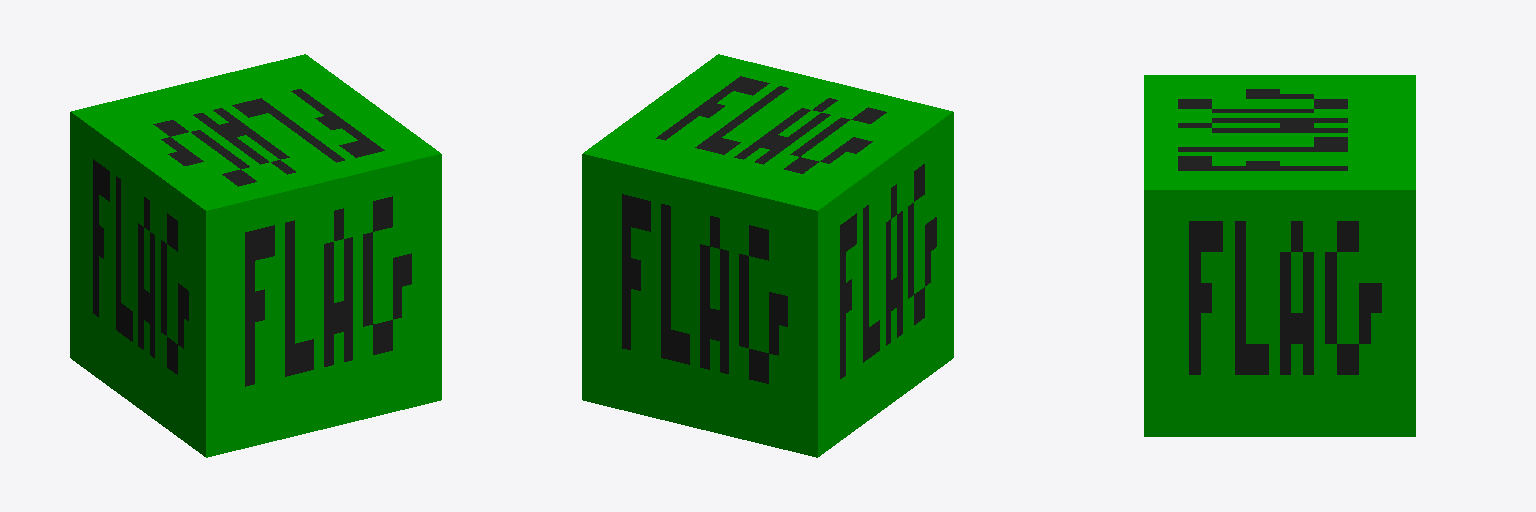
3 views of the same model, side by side, from view 1: azimuth 30°, elevation 25°; view 2: azimuth 150°, elevation 25°; view 3: azimuth 270°, elevation 25° (orthographic).
Visible parts, largest first — view 1: T1L4M005_8; view 2: T1L4M005_8; view 3: T1L4M005_8.
Boxes of the visible parts, x1,y1,x2,y2 form: T1L4M005_8: [70, 54, 441, 457]; T1L4M005_8: [582, 54, 953, 457]; T1L4M005_8: [1144, 75, 1415, 436].
Size of the model in its own units: 0.3994 by 0.4004 by 0.3994.
1 materials, 1 textured.